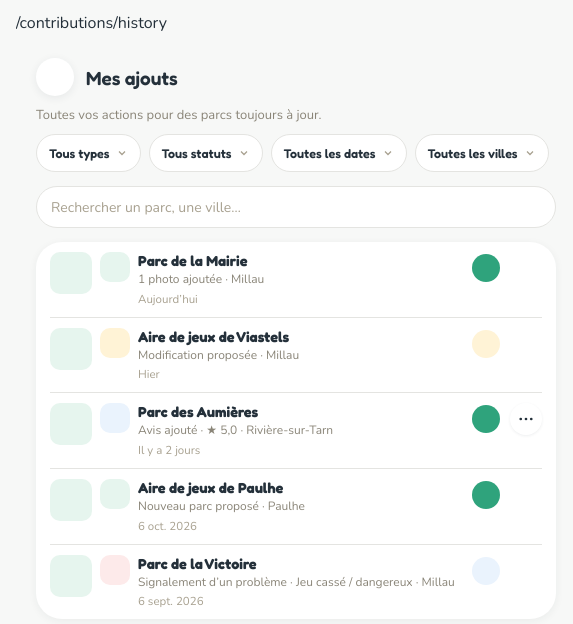
it: ContributionsHistory — search › searches by park name
Expected: the text "1 photo ajoutée" is shown, [138,271,222,287]
In the search field with placeholder "Rechercher un parc, une ville…": (296, 207) [36,186,556,228], type "Aumières"
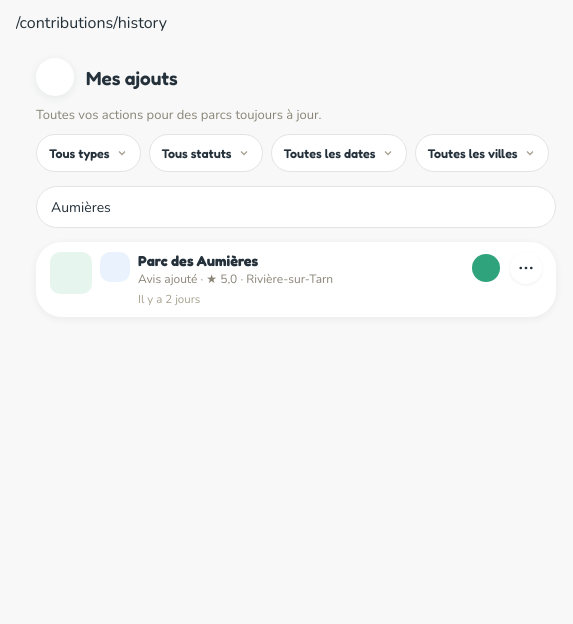
Expected: the text "Avis ajouté" is shown, [138,271,197,287]
Expected: the button "1 photo ajoutée" is gone
